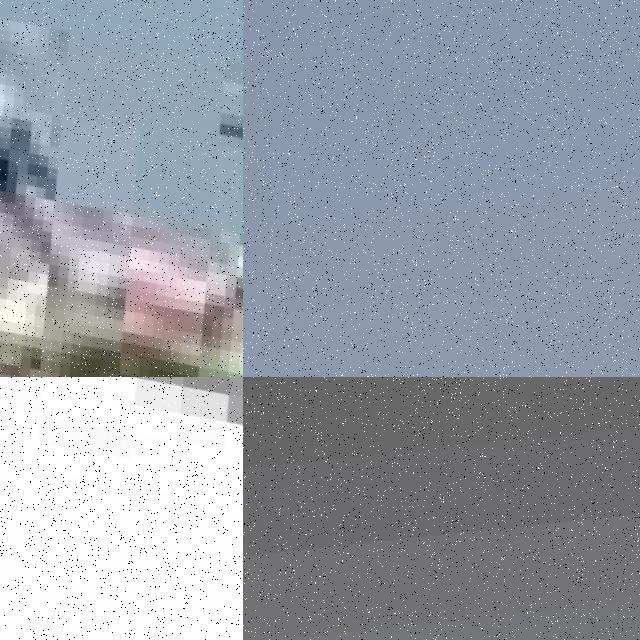0: (0, 0, 243, 377)
drone: (0, 377, 243, 640)
